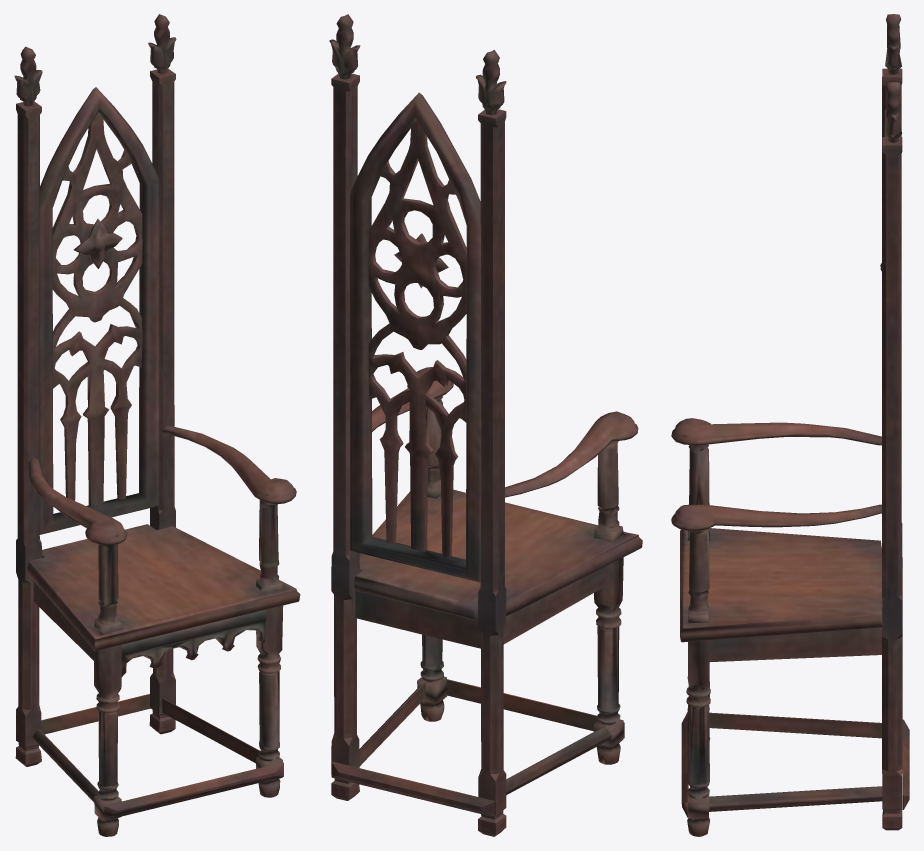
File: chair-wooden-01.lite.80f03bb8.glb
The picture shows the model from 3 angles, left to right: view 1: azimuth 30°, elevation 25°; view 2: azimuth 150°, elevation 25°; view 3: azimuth 270°, elevation 25°; orthographic projection. The views are drawn at different scales.
Parts seen in each view (by area): view 1: model; view 2: model; view 3: model.
Boxes of the visible parts, bbox=[...] form: model: bbox=[14, 14, 300, 836]; model: bbox=[329, 14, 642, 836]; model: bbox=[671, 14, 909, 836].
Size of the model in its own units: 0.6872 by 2.27 by 0.6584.
Materials: 1 (1 with a texture image).
